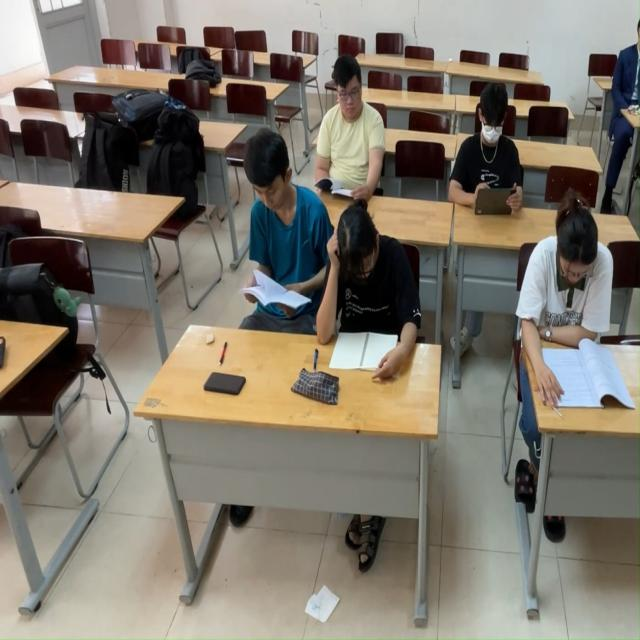read: (518, 214, 640, 424), (240, 128, 322, 334), (338, 204, 423, 385), (453, 86, 531, 226), (317, 67, 396, 201)
